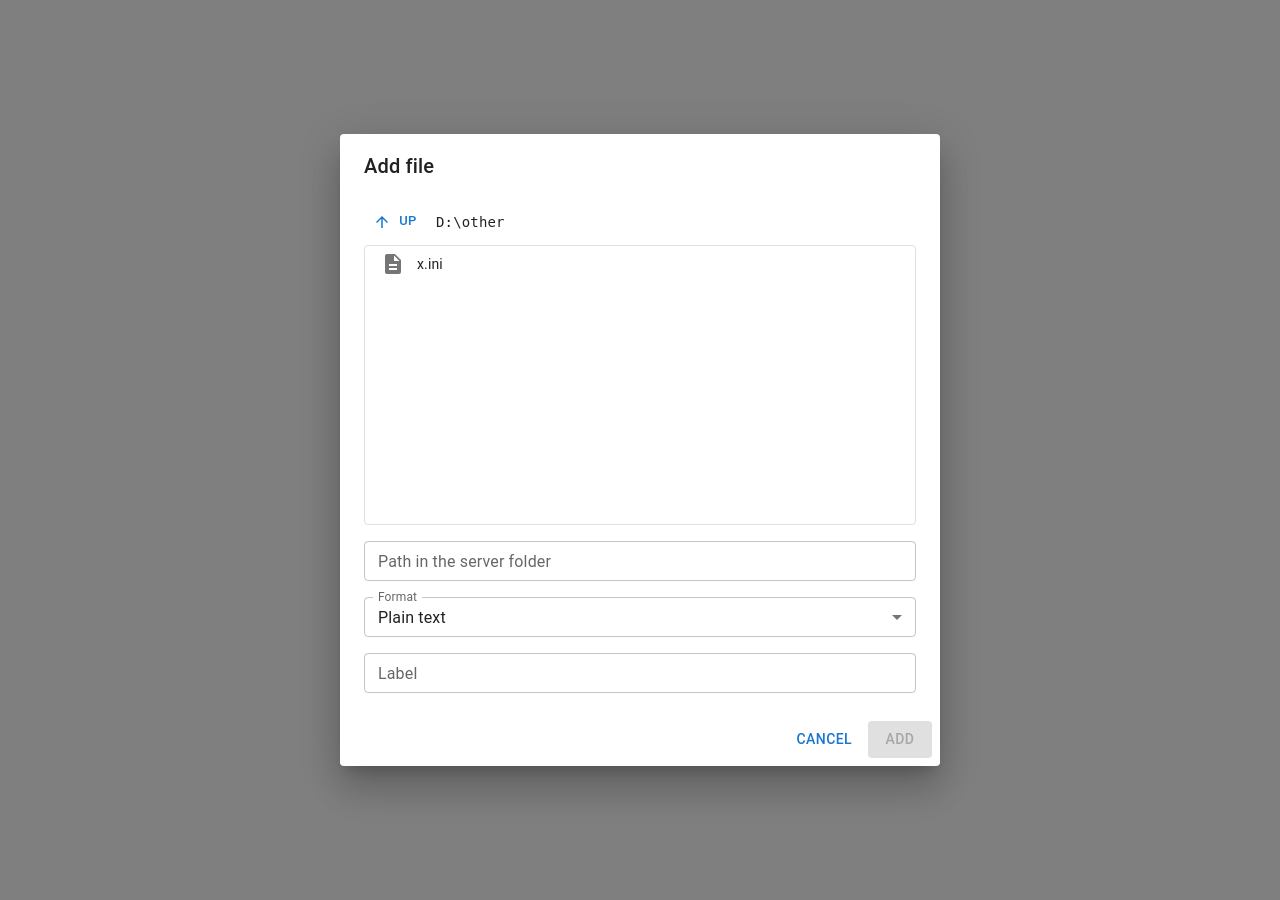
AddSourceDialog › a file outside the server folder cannot be added
Click the button "x.ini" at x=393, y=264, box left=381, top=252, right=443, bottom=276
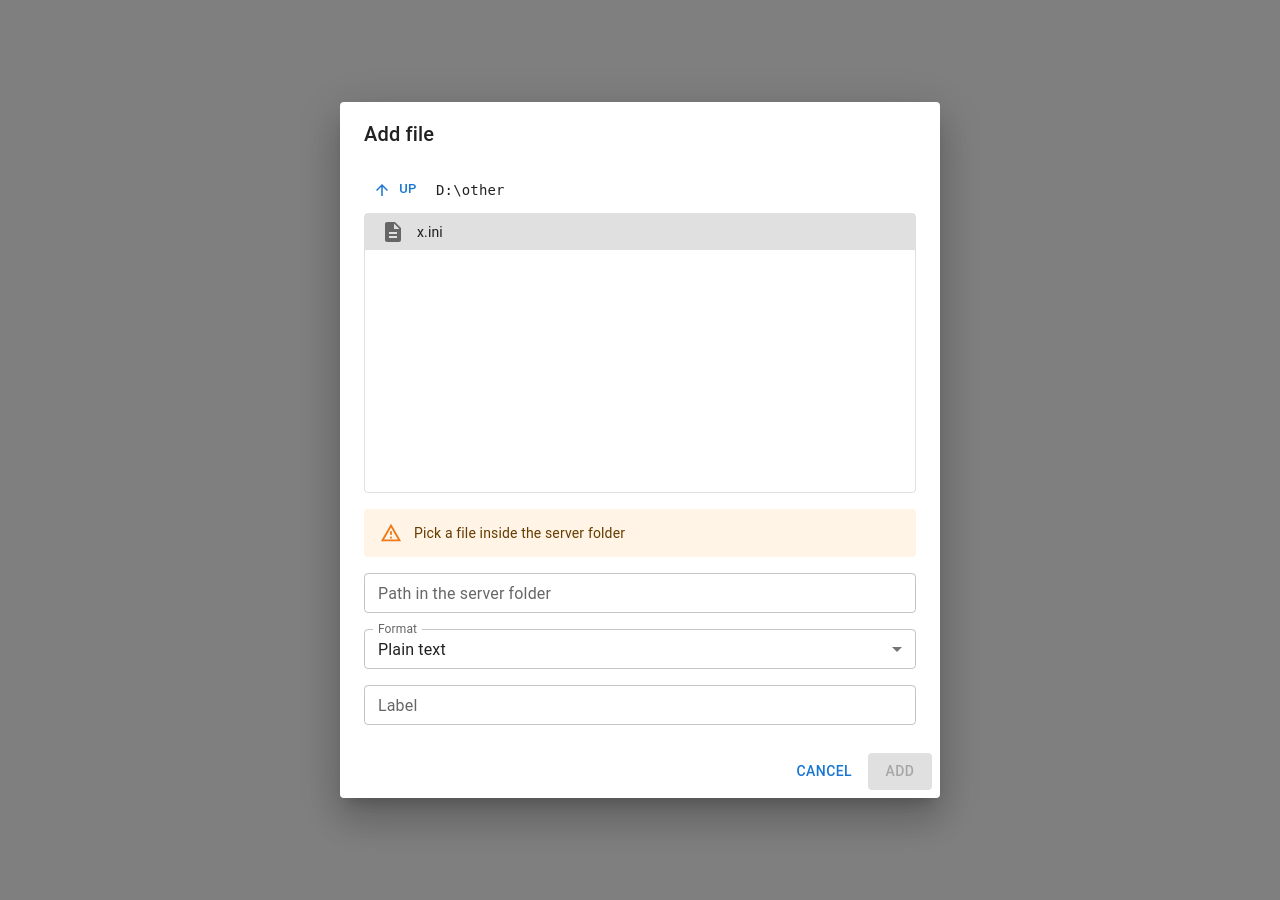
Expected: the button "Add" is disabled, left=868, top=753, right=932, bottom=790
Now the text "Pick a file inside the server folder" is shown, box left=414, top=525, right=625, bottom=541
